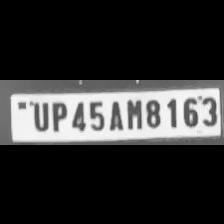1: (163, 95, 179, 127)
3: (200, 93, 218, 126)
4: (68, 97, 86, 130)
5: (86, 97, 106, 130)
6: (180, 94, 198, 126)
8: (142, 96, 162, 128)
A: (106, 97, 124, 130)
M: (124, 96, 142, 130)
P: (48, 98, 68, 130)
U: (28, 98, 50, 130)
